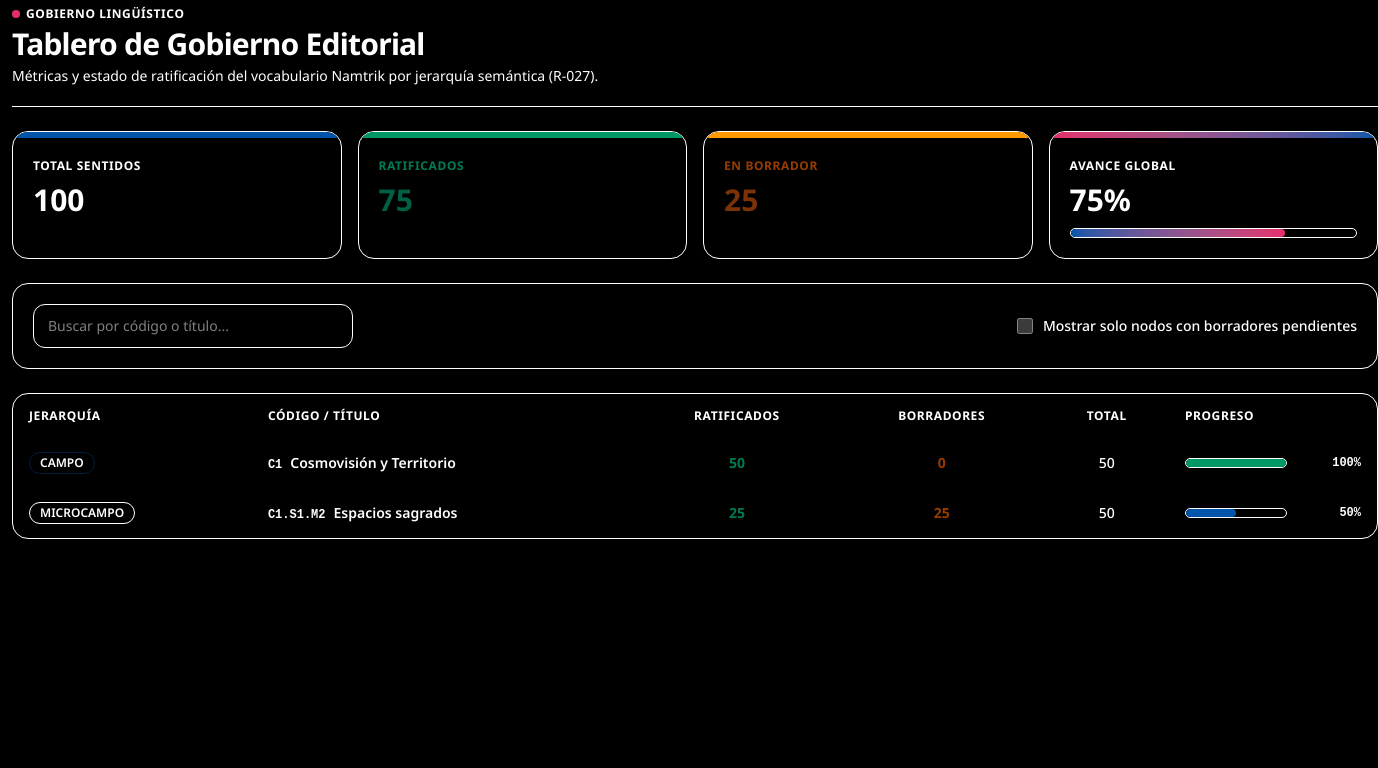
Test: DashboardPage (T-046, R-027) › filtra nodos ocultando los que tienen 0 borradores al activar solo con pendientes
This screenshot has width=1378, height=768.
Expected: the text "Cosmovisión y Territorio" is shown, x1=290 y1=453 x2=456 y2=472
Expected: the text "Espacios sagrados" is shown, x1=334 y1=503 x2=458 y2=522
Click the checkbox labelled "Mostrar solo nodos con borradores pendientes" at (1025, 326), box x1=1017 y1=318 x2=1033 y2=334
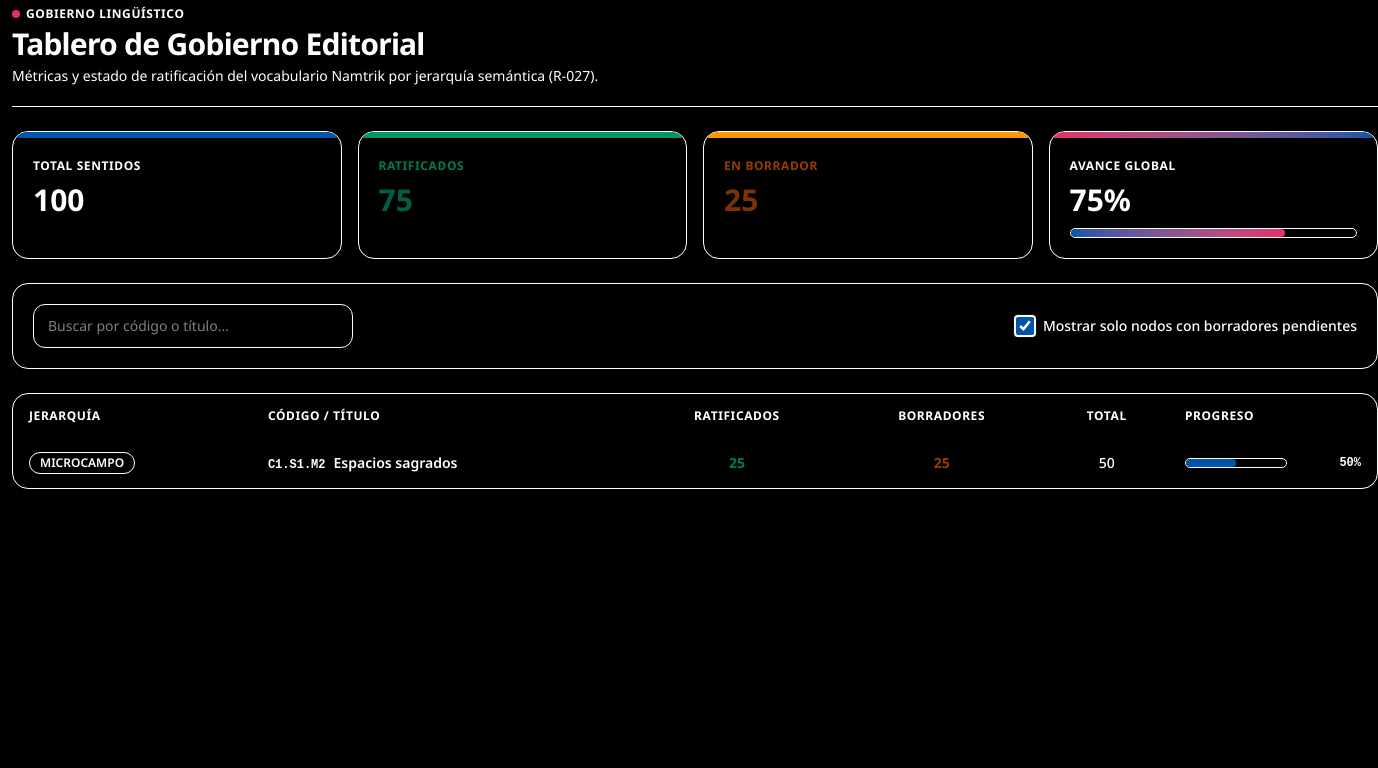
Expected: the text "Espacios sagrados" is shown, x1=334 y1=453 x2=458 y2=472
Result: the text "Cosmovisión y Territorio" is gone
